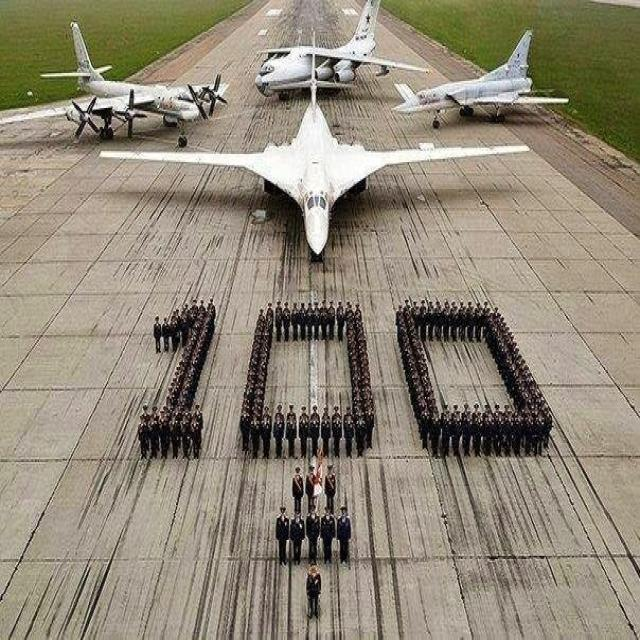Tu160: (91, 59, 554, 324), (41, 0, 232, 145), (386, 20, 580, 140), (252, 0, 394, 100)
